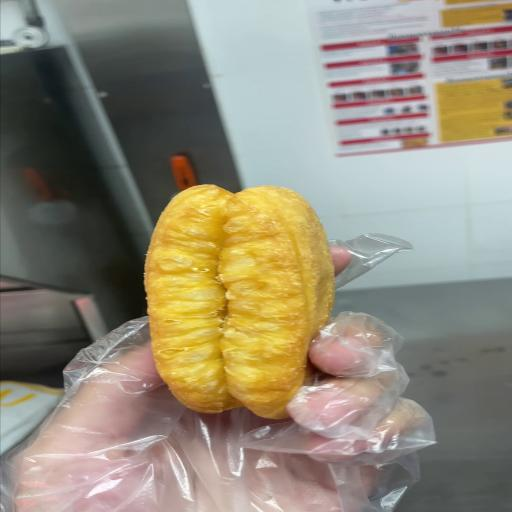brand_golden_good: (145, 185, 334, 419)
